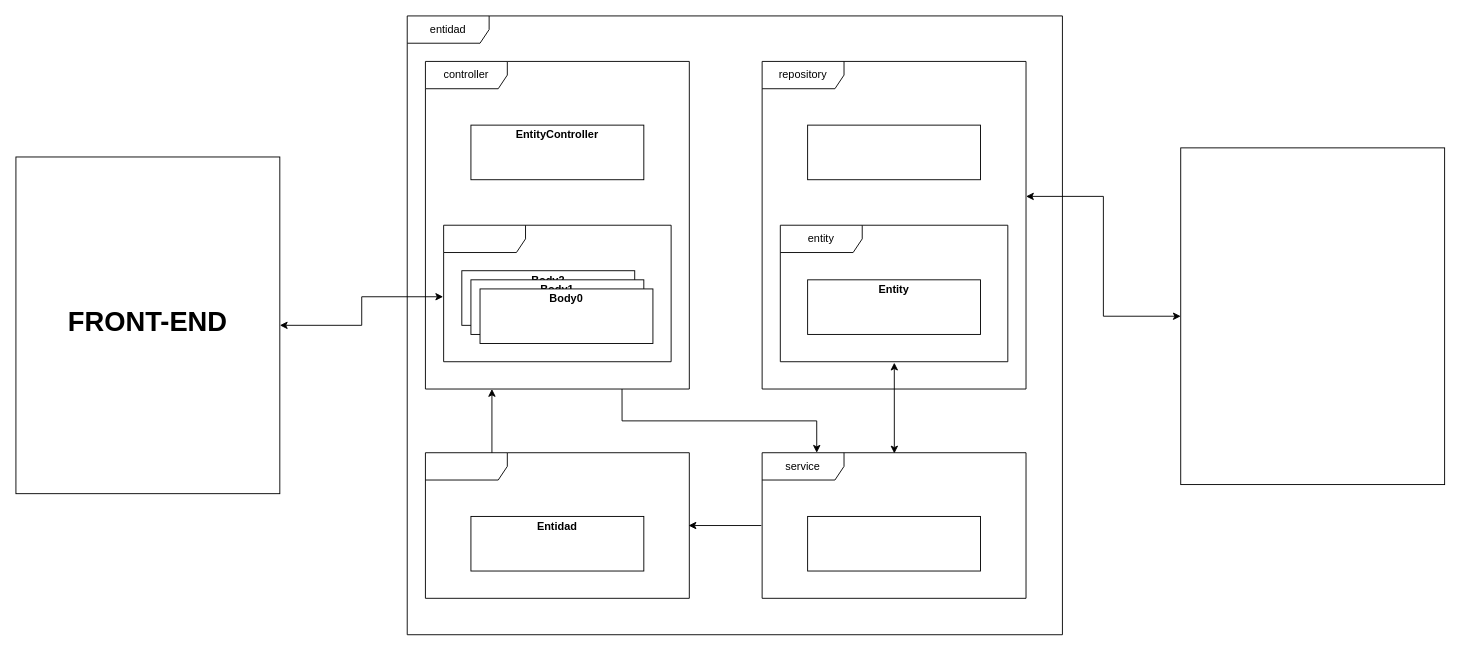
This 1461x651 diagram has some shape labels left out. Here are the shapes that lost their labels. From the top down, the box of each, then its label:
(807, 124, 981, 180): EntityRepository
(443, 224, 671, 362): body
(1180, 147, 1445, 485): BASE DE DATOS
(425, 452, 689, 598): domain
(807, 516, 981, 571): EntityService
